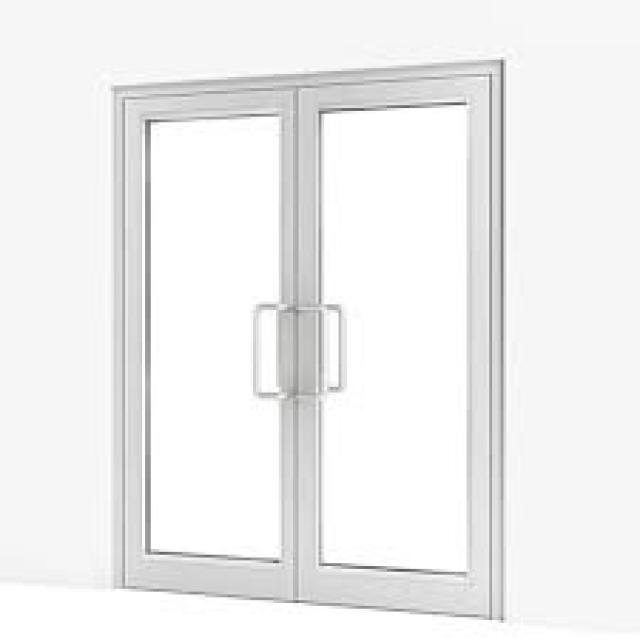door: (114, 58, 503, 619)
